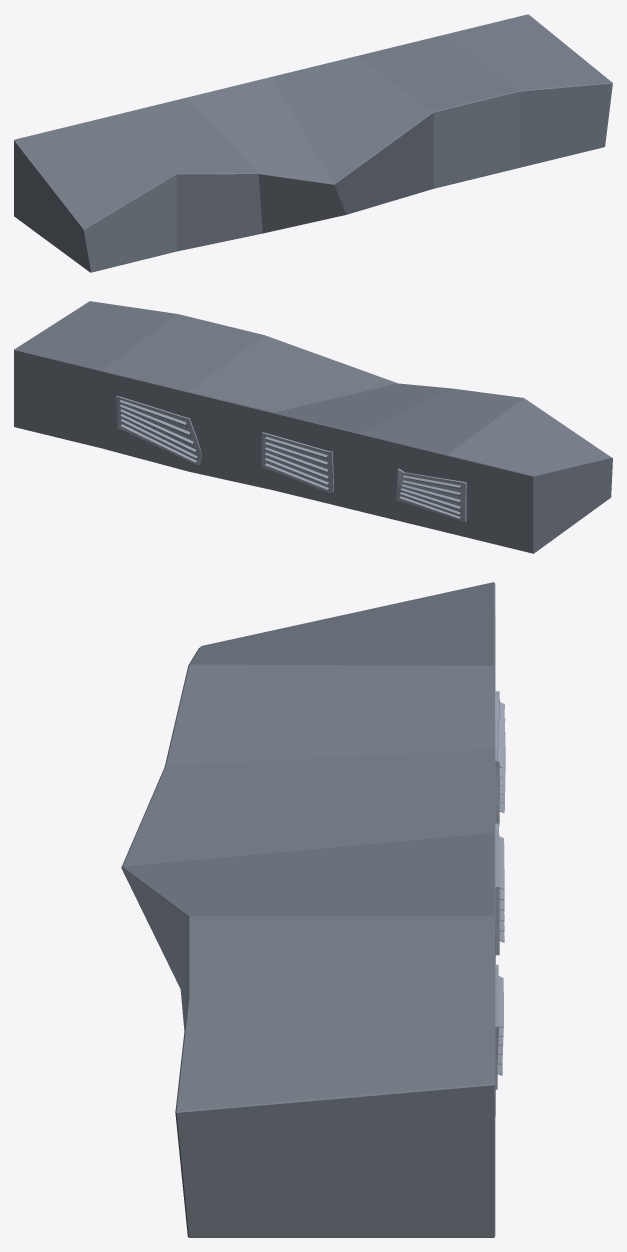
File: box_001_cutter-machine_001.fbx
The picture shows the model from 3 angles, top to bottom: view 1: azimuth 30°, elevation 25°; view 2: azimuth 150°, elevation 25°; view 3: azimuth 270°, elevation 25°; orthographic projection. The views are drawn at different scales.
Visible parts, largest first — view 1: box.001.cutter-machine.001; view 2: box.001.cutter-machine.001; view 3: box.001.cutter-machine.001.
Boxes of the visible parts, bbox=[...] form: box.001.cutter-machine.001: bbox=[14, 14, 612, 272]; box.001.cutter-machine.001: bbox=[14, 301, 612, 553]; box.001.cutter-machine.001: bbox=[121, 582, 505, 1237].
Size of the model in its own units: 0.7807 by 0.1151 by 0.2481.
